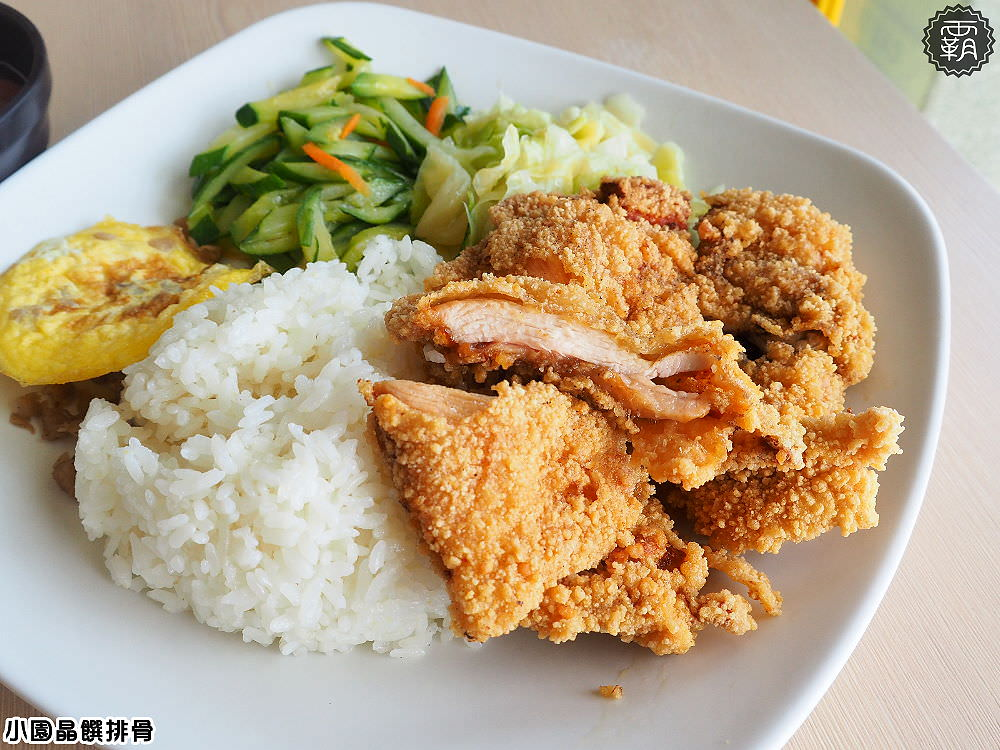rice: (157, 311, 361, 608)
